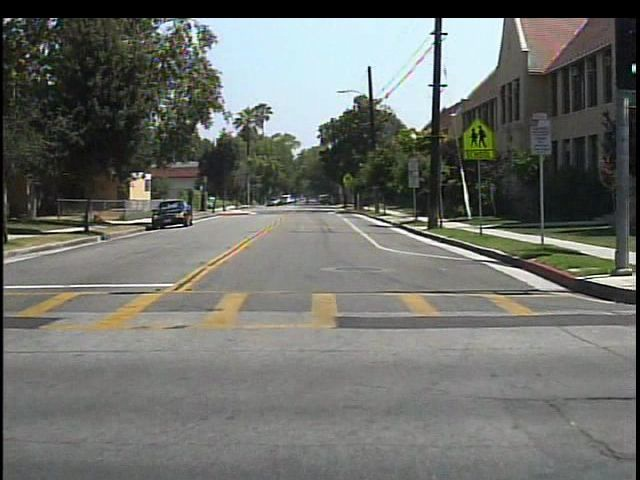person: (301, 193, 316, 211)
